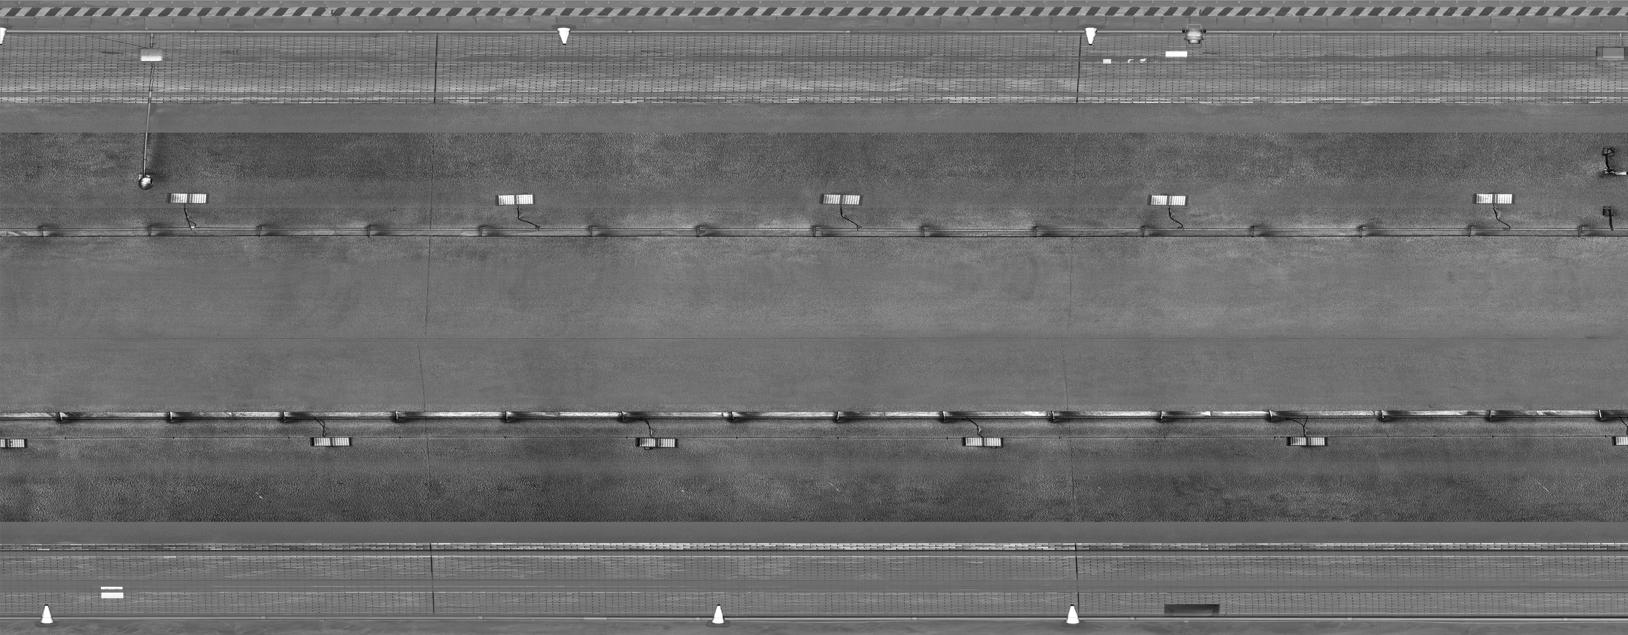light: (301, 429, 355, 451), (629, 430, 683, 452), (955, 429, 1009, 451), (1281, 430, 1335, 452), (158, 186, 212, 208), (487, 187, 541, 209), (811, 186, 865, 208), (1138, 189, 1192, 211), (1466, 186, 1520, 208), (1, 434, 32, 452), (1605, 427, 1628, 448)
